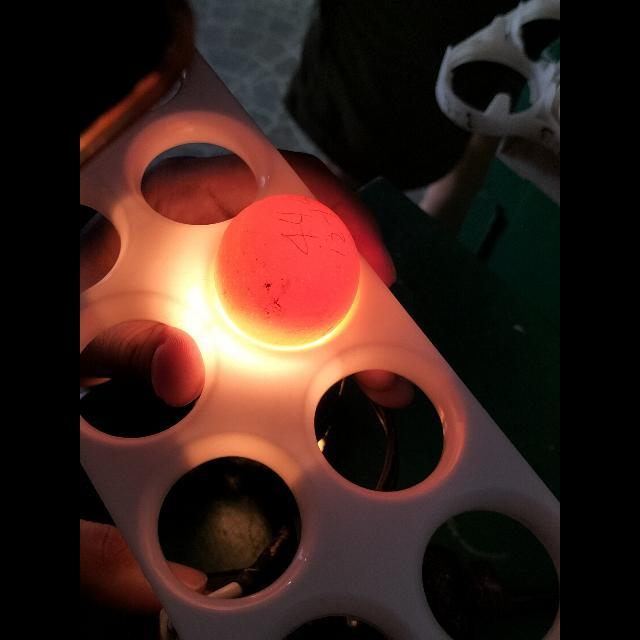Infertile: (222, 193, 356, 349)
